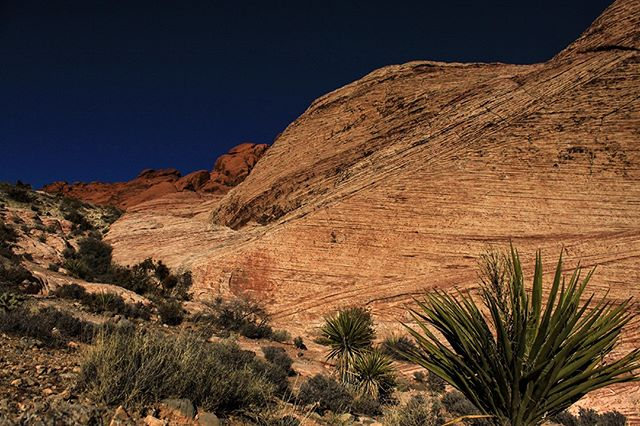mountain: (131, 7, 640, 243)
sky: (1, 1, 524, 172)
vegetation: (4, 186, 395, 426)
